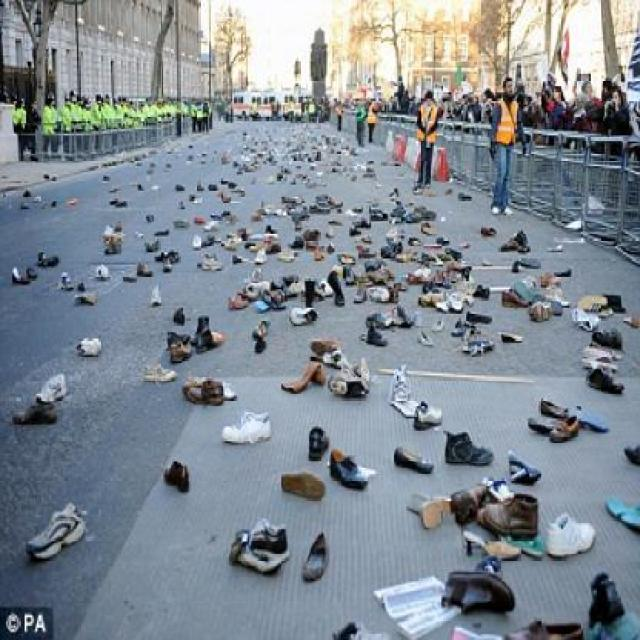garbage: (137, 337, 640, 640), (163, 182, 474, 338), (2, 166, 162, 433), (456, 209, 632, 342), (236, 129, 372, 178)
